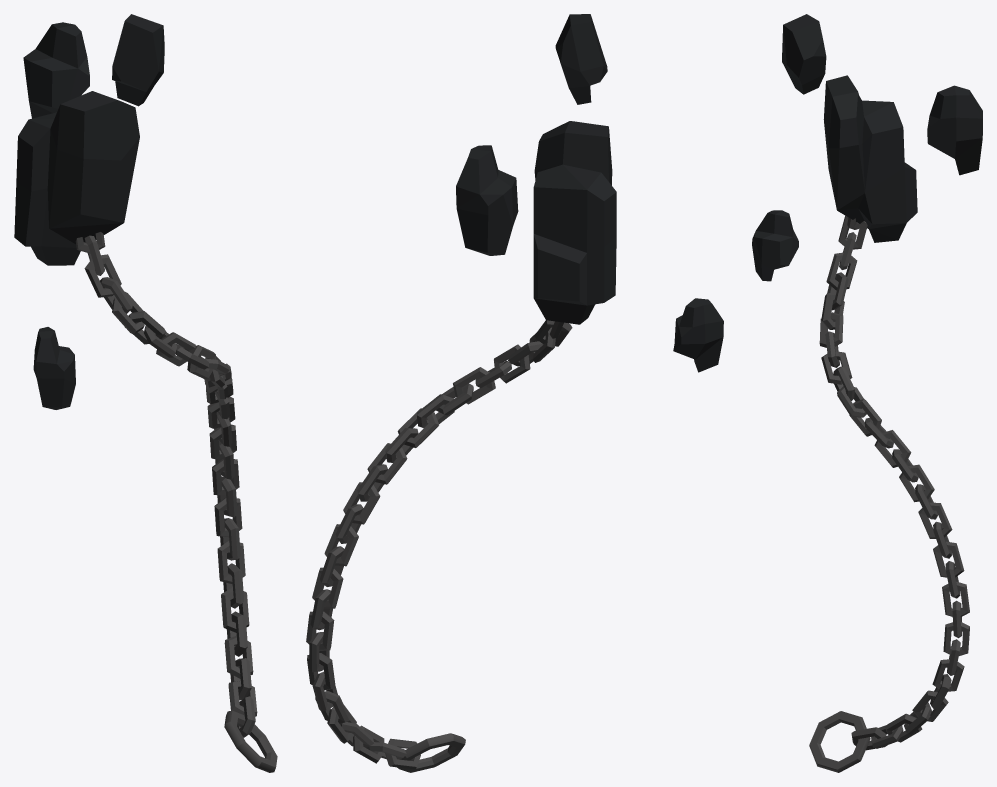
File: pit_floating_rock_a.gltf
The picture shows the model from 3 angles, left to right: view 1: azimuth 30°, elevation 25°; view 2: azimuth 150°, elevation 25°; view 3: azimuth 270°, elevation 25°; orthographic projection. The views are drawn at different scales.
Parts seen in each view (by area): view 1: pit_floating_rock_a; view 2: pit_floating_rock_a; view 3: pit_floating_rock_a.
Part boxes in pixels (left/top/right/bottom): pit_floating_rock_a: left=14, top=14, right=277, bottom=772; pit_floating_rock_a: left=306, top=14, right=723, bottom=772; pit_floating_rock_a: left=752, top=14, right=982, bottom=772.
Size of the model in its own units: 18.33 by 43.98 by 13.37.
1 material, 1 textured.
